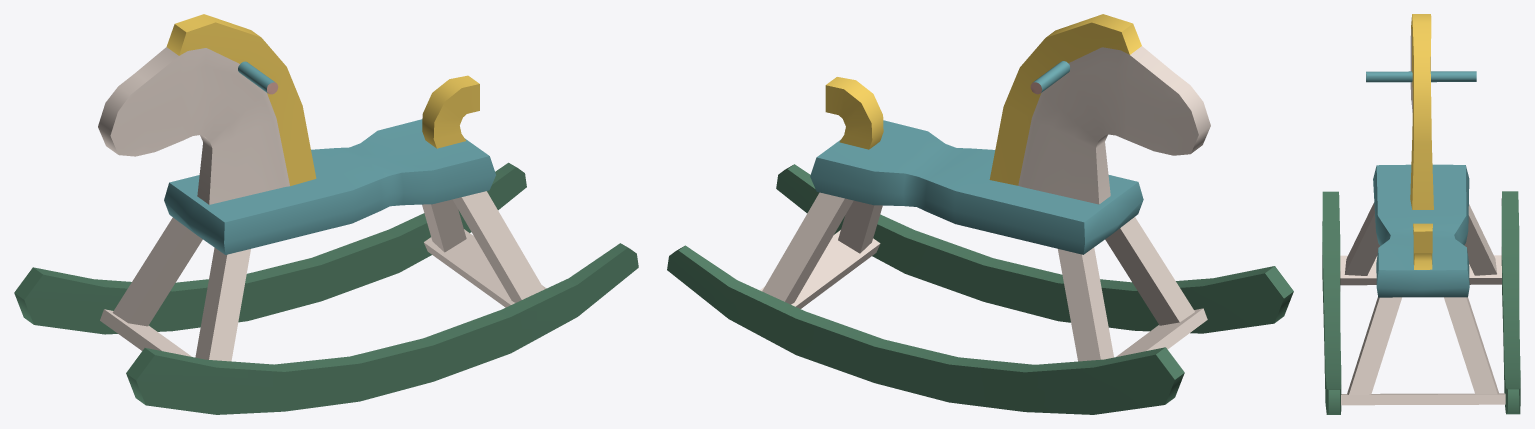
File: Horse_1.glb
3 renders of one model, left to right at view 1: azimuth 30°, elevation 25°; view 2: azimuth 150°, elevation 25°; view 3: azimuth 270°, elevation 25°, orthographic. The views are drawn at different scales.
Visible parts, largest first — view 1: Horse_1; view 2: Horse_1; view 3: Horse_1.
Part boxes in pixels (x1=…): Horse_1: x1=14, y1=14, x2=638, y2=414; Horse_1: x1=667, y1=14, x2=1293, y2=414; Horse_1: x1=1322, y1=14, x2=1520, y2=414.
Size of the model in its own units: 1.22 by 0.8319 by 0.5096.
1 material, 1 textured.
